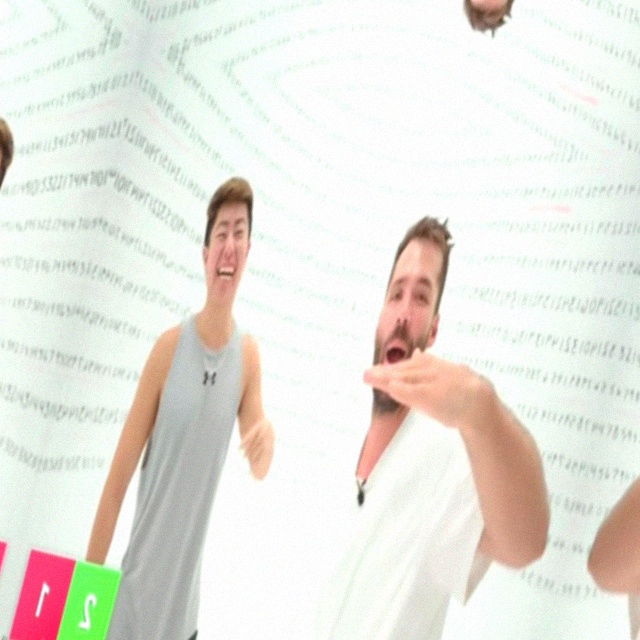Paper: (354, 334, 493, 436)
